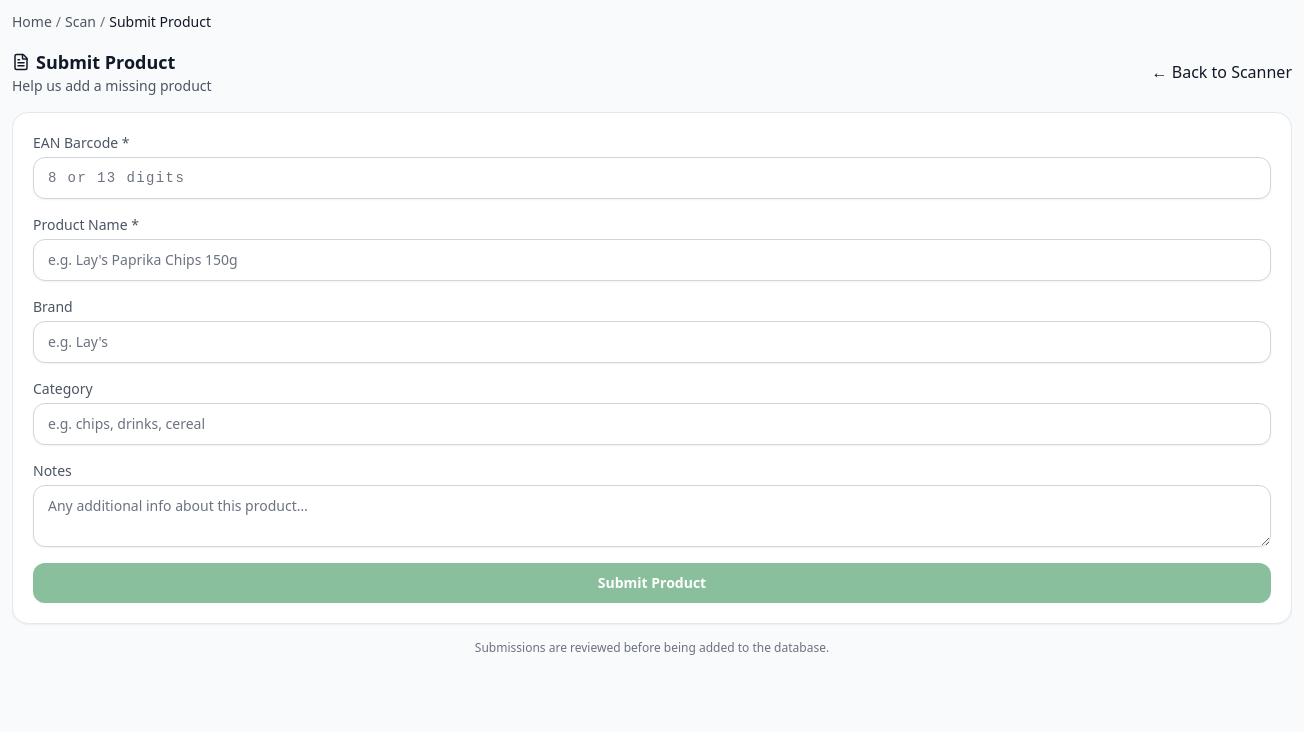
Test: SubmitProductPage › enables submit when both EAN and name are valid
Type "12345678" into the field labelled "EAN Barcode *". click: (652, 178)
box: left=33, top=157, right=1271, bottom=199
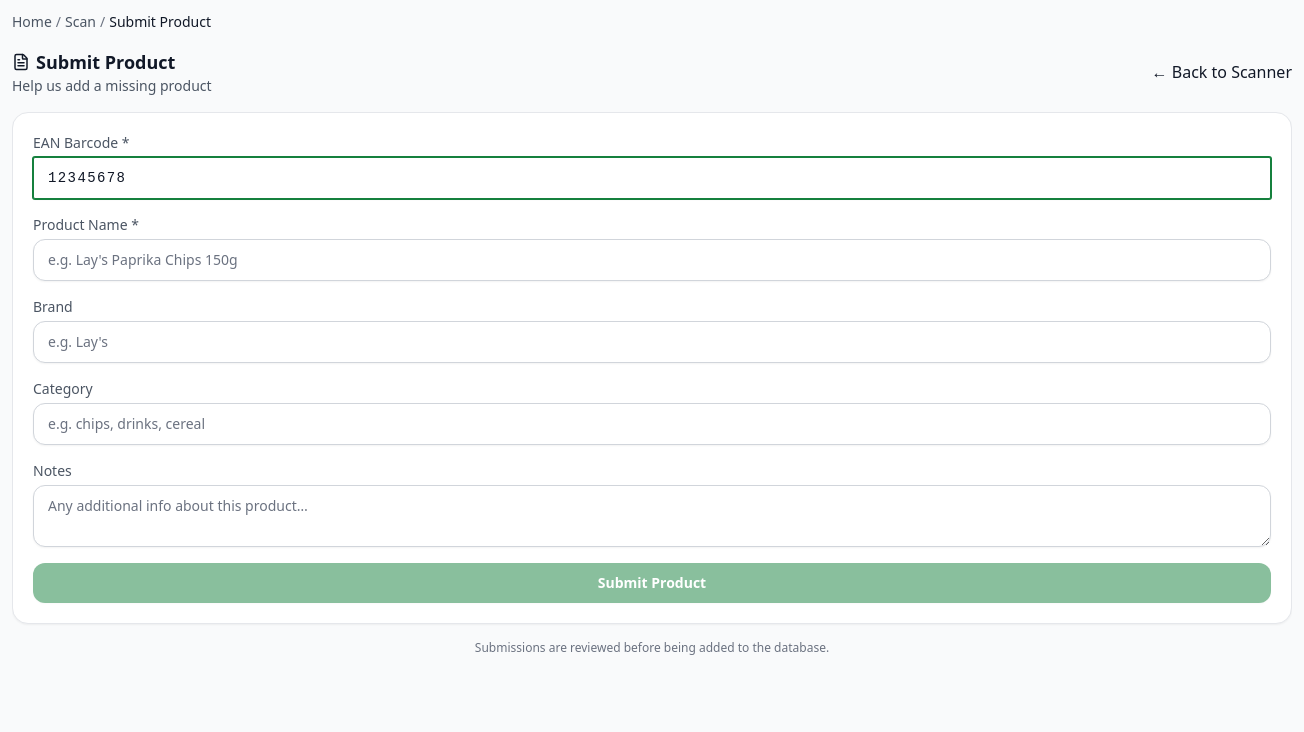
Type "Test Product" into the field labelled "Product Name *". click: (652, 260)
box: left=33, top=239, right=1271, bottom=281
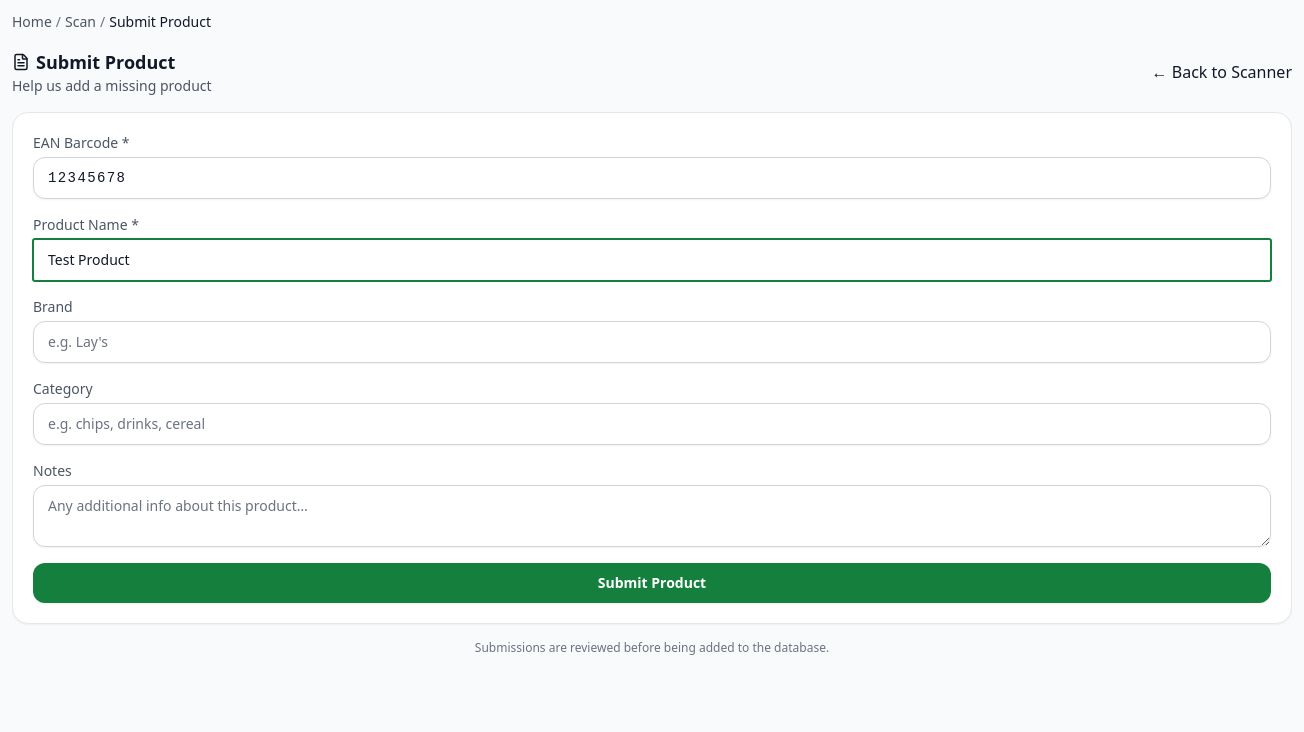
Expected: the button "Submit Product" is enabled, left=33, top=563, right=1271, bottom=603
